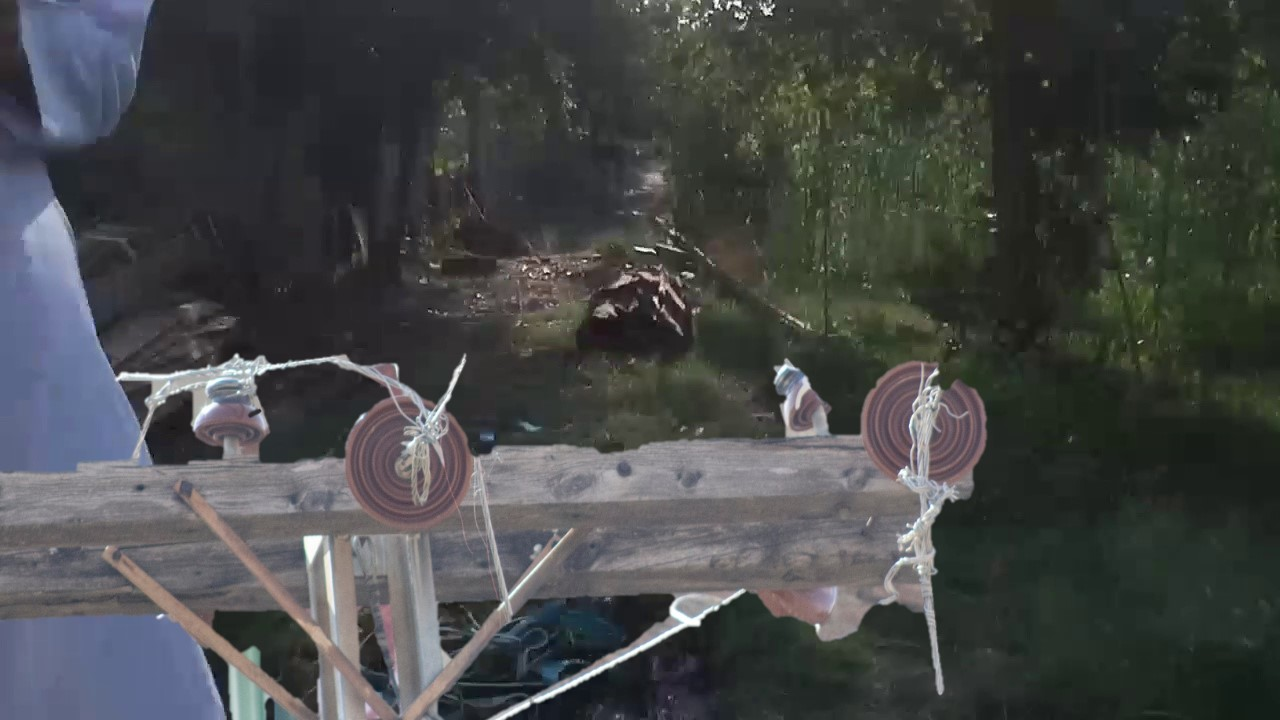defect_pin: (765, 351, 836, 443)
insulator_disc: (338, 391, 479, 533), (859, 357, 991, 489)
insulator_pin: (183, 373, 274, 456)
